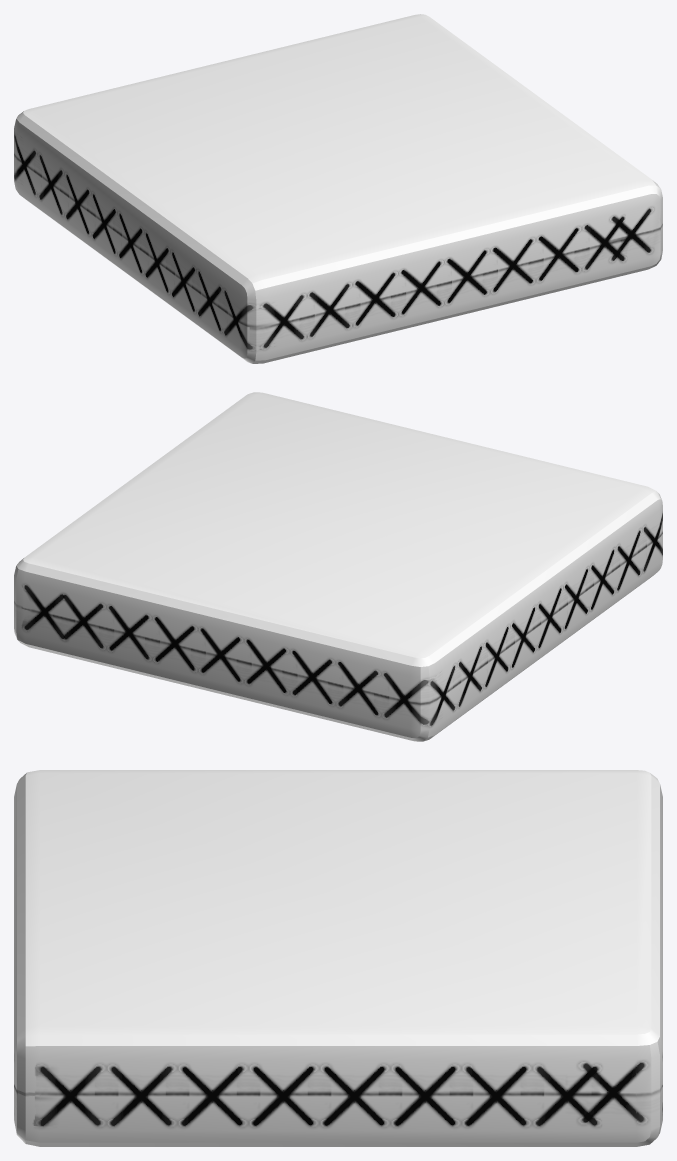
The picture shows the model from 3 angles, top to bottom: view 1: azimuth 30°, elevation 25°; view 2: azimuth 150°, elevation 25°; view 3: azimuth 270°, elevation 25°; orthographic projection. The views are drawn at different scales.
Parts seen in each view (by area): view 1: Box1; view 2: Box1; view 3: Box1.
Part boxes in pixels (x1,y1,x2,y2): Box1: (14,14,662,363); Box1: (14,392,662,741); Box1: (14,770,662,1146).
Bounding box in the file's own units: 19.69 × 3.94 × 19.69.
Materials: 1 (1 with a texture image).
